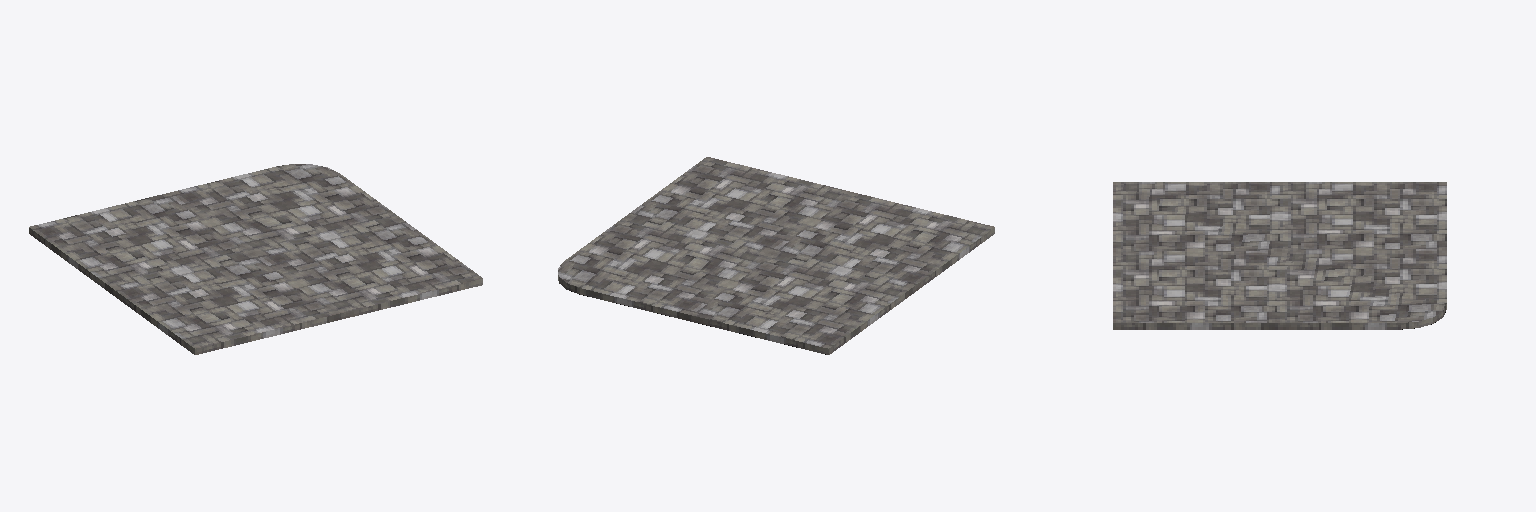
3 views of the same model, side by side, from view 1: azimuth 30°, elevation 25°; view 2: azimuth 150°, elevation 25°; view 3: azimuth 270°, elevation 25° (orthographic).
Visible parts, largest first — view 1: 7_Pavement-A-B; view 2: 7_Pavement-A-B; view 3: 7_Pavement-A-B.
Part boxes in pixels (bbox=[...]): 7_Pavement-A-B: bbox=[29, 164, 482, 354]; 7_Pavement-A-B: bbox=[558, 157, 994, 354]; 7_Pavement-A-B: bbox=[1113, 182, 1446, 329].
Size of the model in its own units: 0.6196 by 0.0135 by 0.6196.
Materials: 1 (1 with a texture image).